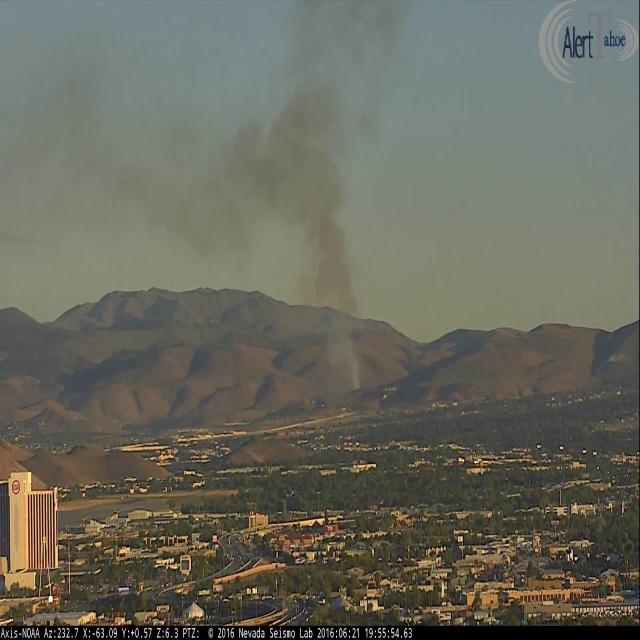smoke: (0, 0, 413, 398)
